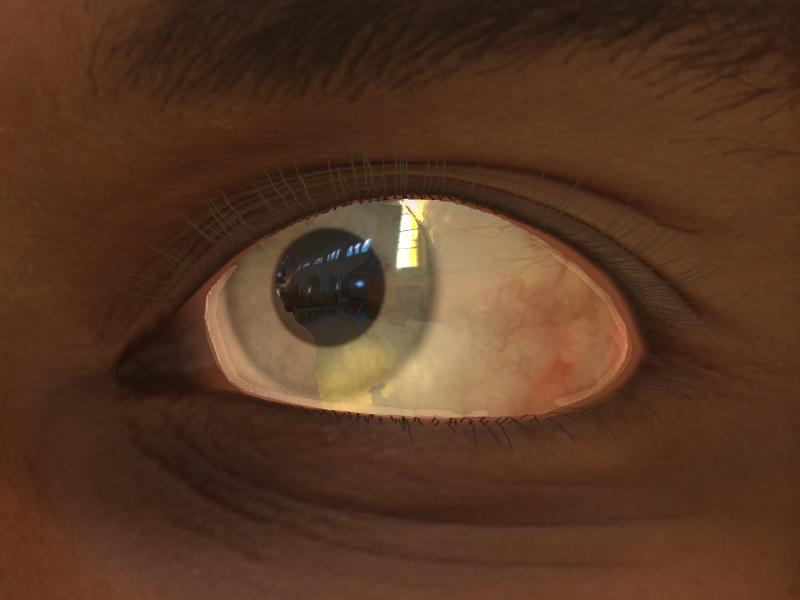eye: (227, 200, 438, 400)
